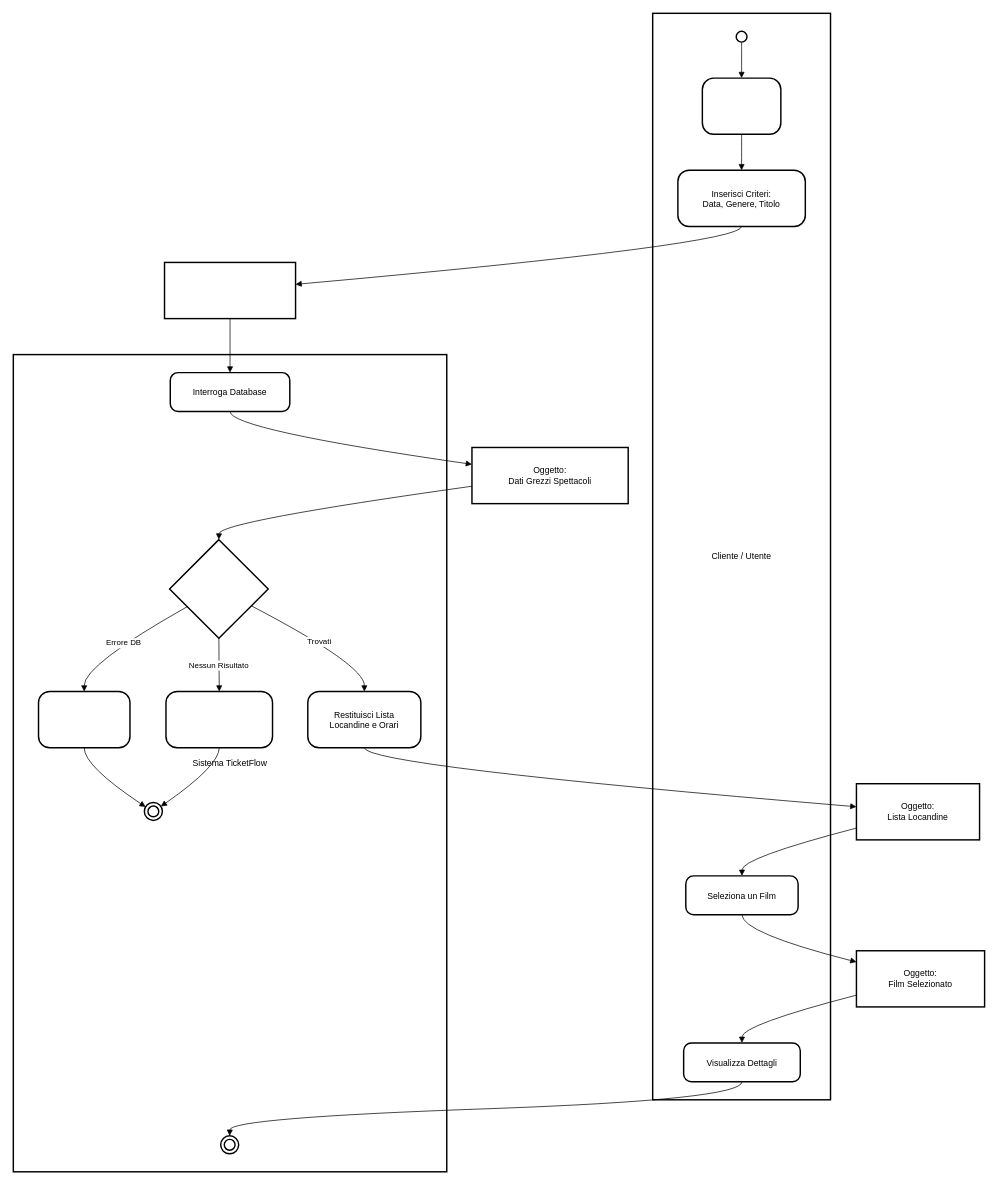
This 997x1184 diagram has some shape labels left out. Here are the shapes that lost their labels. From the top down, the centre of each, then its label:
At (741,106): "Accedi alla Home Page".
At (229,290): "Oggetto: Criteri di Ricerca".
At (218,589): "Esito Ricerca?".
At (83,719): "Mostra Errore Database".
At (219,719): "Mostra Avviso: Nessun Risultato".
